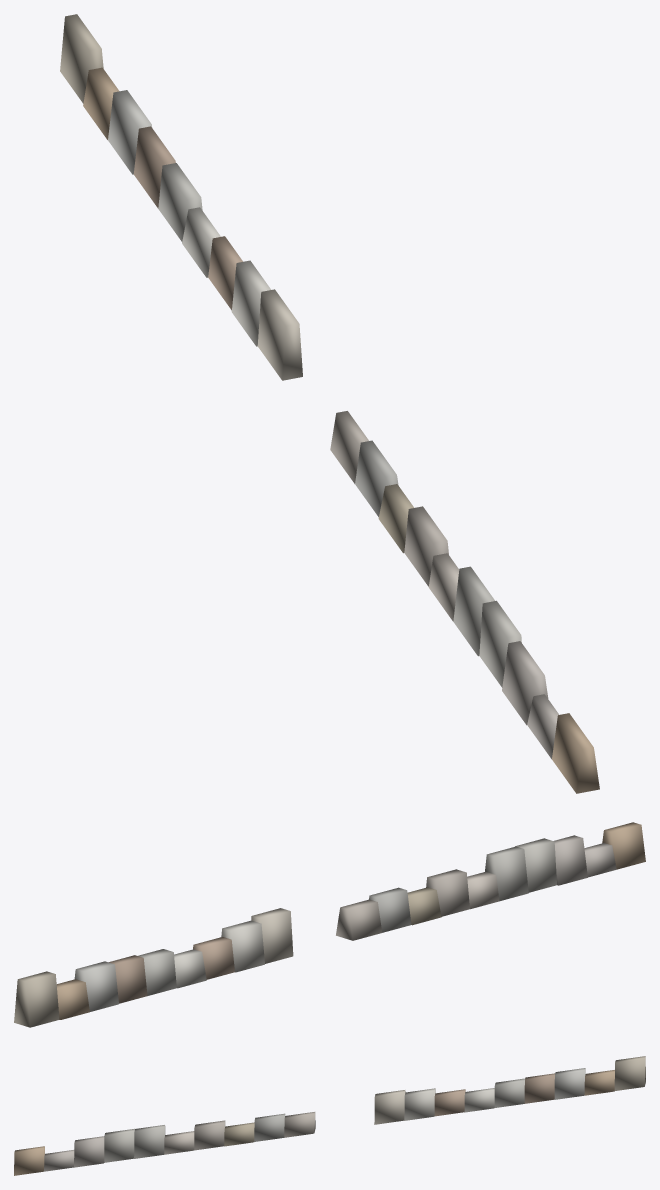
Rendered from farm_-12_-10_collision.glb.
3 renders of one model, top to bottom at view 1: azimuth 30°, elevation 25°; view 2: azimuth 150°, elevation 25°; view 3: azimuth 270°, elevation 25°, orthographic. The views are drawn at different scales.
Visible parts, largest first — view 1: geometry_0; view 2: geometry_0; view 3: geometry_0.
Part boxes in pixels (x1,y1,x2,y2): geometry_0: (60,14,599,793); geometry_0: (14,822,645,1027); geometry_0: (14,1056,645,1175).
Size of the model in its own units: 4.08 by 8.29 by 33.08.
